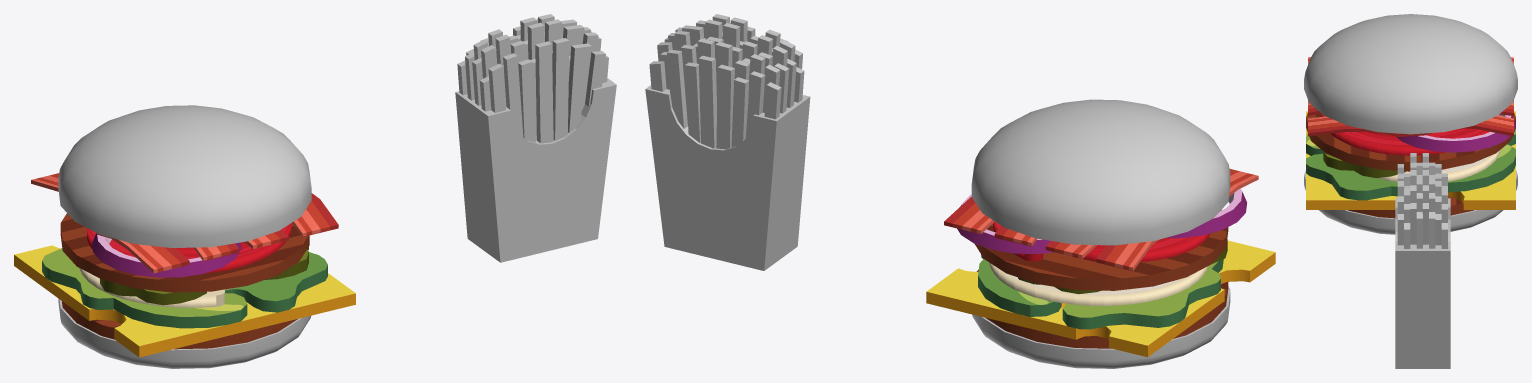
The model's file is meals.fbx.
The picture shows the model from 3 angles, left to right: view 1: azimuth 30°, elevation 25°; view 2: azimuth 150°, elevation 25°; view 3: azimuth 270°, elevation 25°; orthographic projection. The views are drawn at different scales.
Parts seen in each view (by area): view 1: Fries_Box_9, Bun_Slice_Top, Cheese_Slice2, Lettuce_Slice2, Patty_Slice3, Bun_Slice_Bot, Bacon_Slice2, Onion_Slice2, Patty_Slice2, Pickle_Slice2, Ketchup_Slice1, Mayo_Slice1; view 2: Fries_Box_9, Bun_Slice_Top, Cheese_Slice2, Patty_Slice3, Lettuce_Slice2, Bun_Slice_Bot, Bacon_Slice2, Mayo_Slice1, Onion_Slice2, Patty_Slice2, Ketchup_Slice1; view 3: Bun_Slice_Top, Fries_Box_9, Lettuce_Slice2, Cheese_Slice2, Patty_Slice3, Bun_Slice_Bot, Ketchup_Slice1, Bacon_Slice2, Onion_Slice2, Mayo_Slice1, Pickle_Slice2, Patty_Slice2.
Part boxes in pixels (x1,y1,x2,y2): Fries_Box_9: [455, 14, 616, 262]; Bun_Slice_Top: [58, 105, 311, 247]; Cheese_Slice2: [14, 245, 355, 357]; Lettuce_Slice2: [42, 248, 327, 328]; Patty_Slice3: [60, 213, 309, 292]; Bun_Slice_Bot: [58, 298, 310, 368]; Bacon_Slice2: [31, 173, 338, 273]; Onion_Slice2: [92, 233, 241, 277]; Patty_Slice2: [62, 301, 297, 349]; Pickle_Slice2: [100, 247, 308, 305]; Ketchup_Slice1: [87, 223, 291, 273]; Mayo_Slice1: [79, 268, 233, 307]; Fries_Box_9: [645, 14, 810, 270]; Bun_Slice_Top: [971, 99, 1230, 245]; Cheese_Slice2: [926, 240, 1275, 357]; Patty_Slice3: [975, 210, 1228, 290]; Lettuce_Slice2: [978, 254, 1223, 329]; Bun_Slice_Bot: [972, 286, 1230, 368]; Bacon_Slice2: [944, 169, 1258, 271]; Mayo_Slice1: [989, 262, 1208, 305]; Onion_Slice2: [957, 188, 1246, 253]; Patty_Slice2: [976, 269, 1228, 348]; Ketchup_Slice1: [993, 222, 1210, 262]; Bun_Slice_Top: [1304, 14, 1517, 134]; Fries_Box_9: [1395, 153, 1450, 368]; Lettuce_Slice2: [1306, 129, 1515, 200]; Cheese_Slice2: [1306, 111, 1515, 209]; Patty_Slice3: [1306, 113, 1515, 171]; Bun_Slice_Bot: [1304, 170, 1517, 234]; Ketchup_Slice1: [1321, 113, 1489, 155]; Bacon_Slice2: [1308, 57, 1513, 136]; Onion_Slice2: [1397, 114, 1515, 152]; Mayo_Slice1: [1378, 150, 1500, 182]; Pickle_Slice2: [1323, 151, 1406, 178]; Patty_Slice2: [1348, 196, 1473, 218].
Size of the model in its own units: 49.16 by 19.22 by 20.35.
